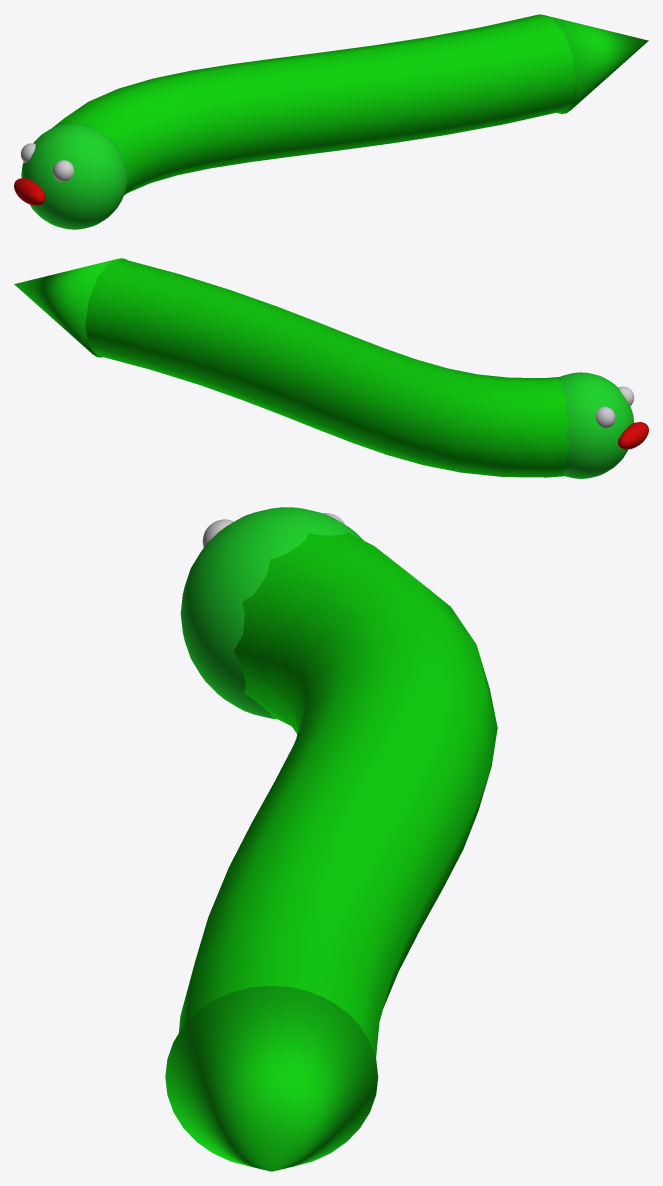
Rendered from SnakeV2.obj.
3 views of the same model, one above another, from view 1: azimuth 30°, elevation 25°; view 2: azimuth 150°, elevation 25°; view 3: azimuth 270°, elevation 25° (orthographic). The views are drawn at different scales.
Parts seen in each view (by area): view 1: BézierCurve, Sphere, Cone, Sphere.003, Sphere.001; view 2: BézierCurve, Sphere, Cone, Sphere.003, Sphere.002; view 3: BézierCurve, Cone, Sphere.
Part boxes in pixels (bbox=[...]): BézierCurve: bbox=[52, 14, 575, 195]; Sphere: bbox=[21, 123, 127, 229]; Cone: bbox=[541, 14, 648, 113]; Sphere.003: bbox=[14, 178, 45, 205]; Sphere.001: bbox=[52, 160, 73, 181]; BézierCurve: bbox=[85, 259, 570, 477]; Sphere: bbox=[558, 372, 633, 478]; Cone: bbox=[14, 258, 126, 357]; Sphere.003: bbox=[618, 422, 648, 449]; Sphere.002: bbox=[596, 406, 615, 427]; BézierCurve: bbox=[179, 532, 497, 1057]; Cone: bbox=[165, 985, 378, 1171]; Sphere: bbox=[180, 507, 363, 719].
Size of the model in its own units: 2.62 by 0.384 by 0.5994.
